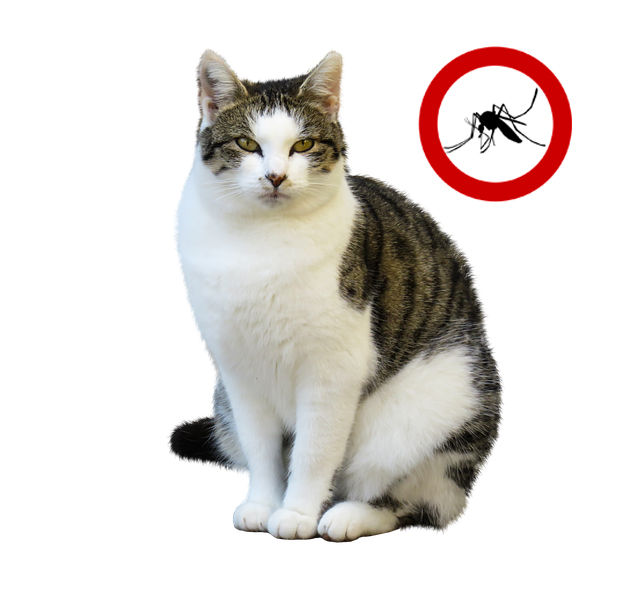cat: (156, 45, 507, 544)
cat-face: (180, 44, 362, 219)
